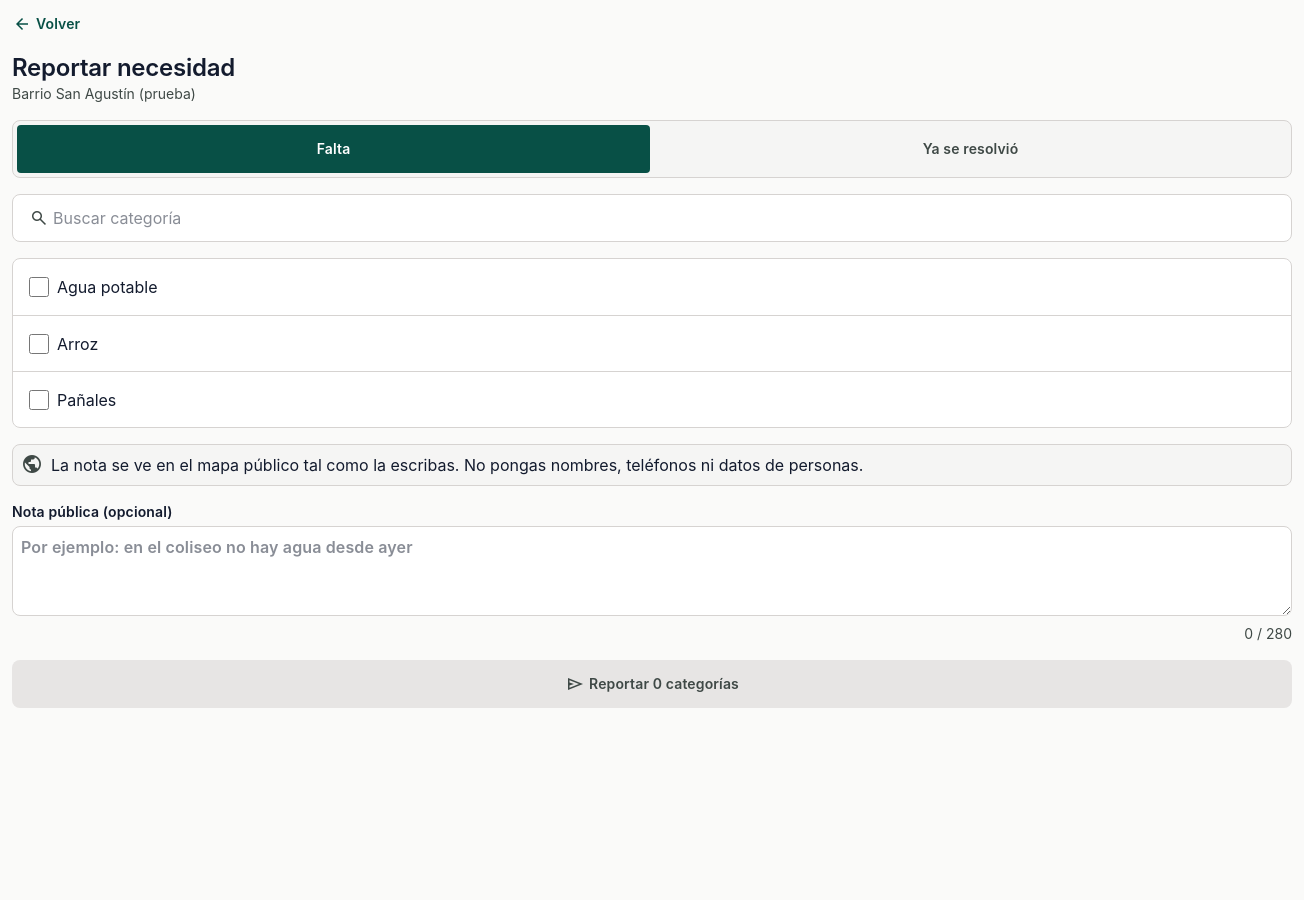
Test: sin nada reportado, «Ya se resolvió» lo dice
The width and height of the screenshot is (1304, 900).
Expected: the element named "Categorías" is shown, [12,258,1292,428]
Click the radio button labelled "Ya se resolvió": {"x": 971, "y": 148} [923,140,1018,157]
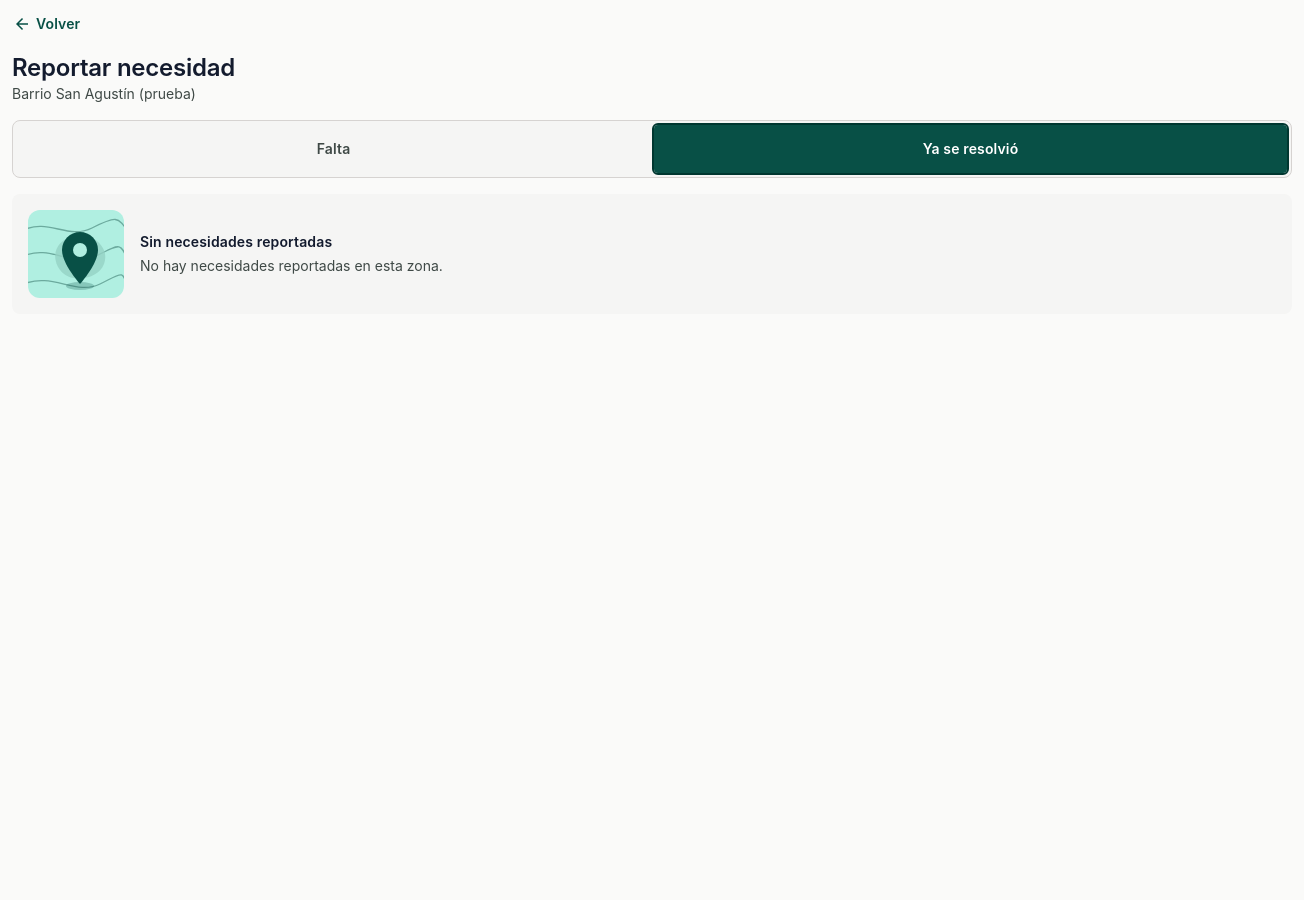
Expected: the text "No hay necesidades reportadas en esta zona." is shown, [140,256,443,276]
